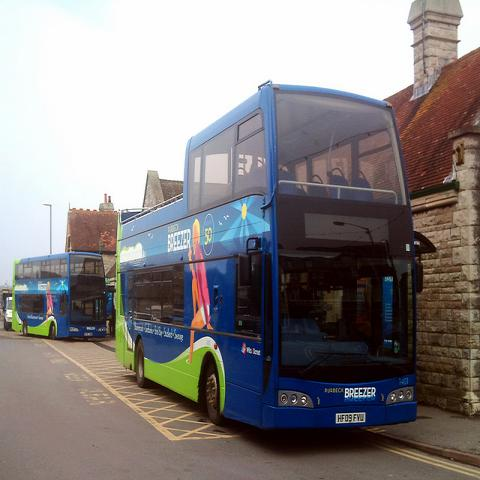bus: (115, 85, 436, 429), (11, 252, 106, 341)
truck: (3, 296, 12, 331)
